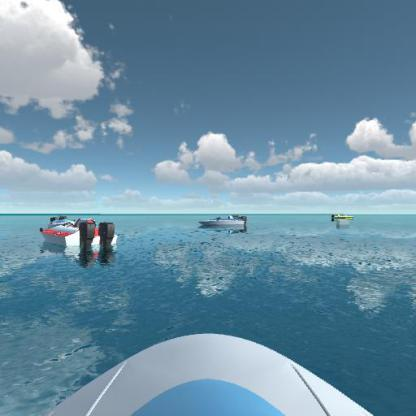usv1: (196, 211, 251, 237), (45, 211, 76, 230)
usv2: (329, 211, 356, 223)
usv3: (38, 218, 125, 263)
